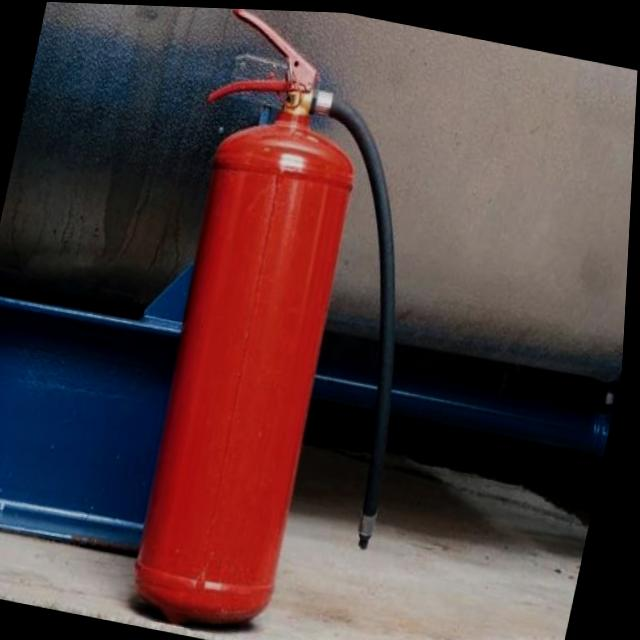FireExtinguisher: (99, 4, 480, 640)
